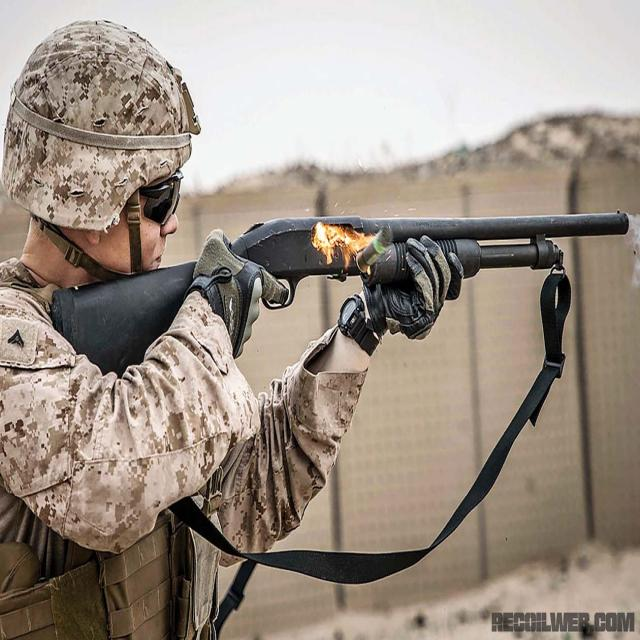ShotGun: (51, 213, 629, 359)
